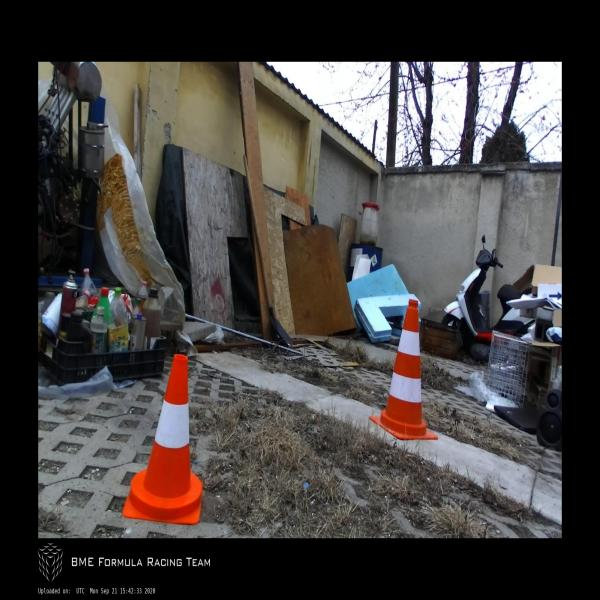large_orange_cone: (370, 299, 437, 440)
orange_cone: (123, 353, 202, 523)
